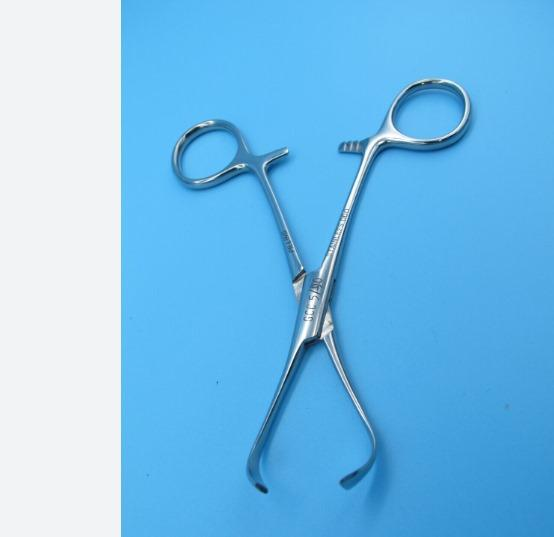Backhaus Towel Clamp: (168, 71, 478, 502)
